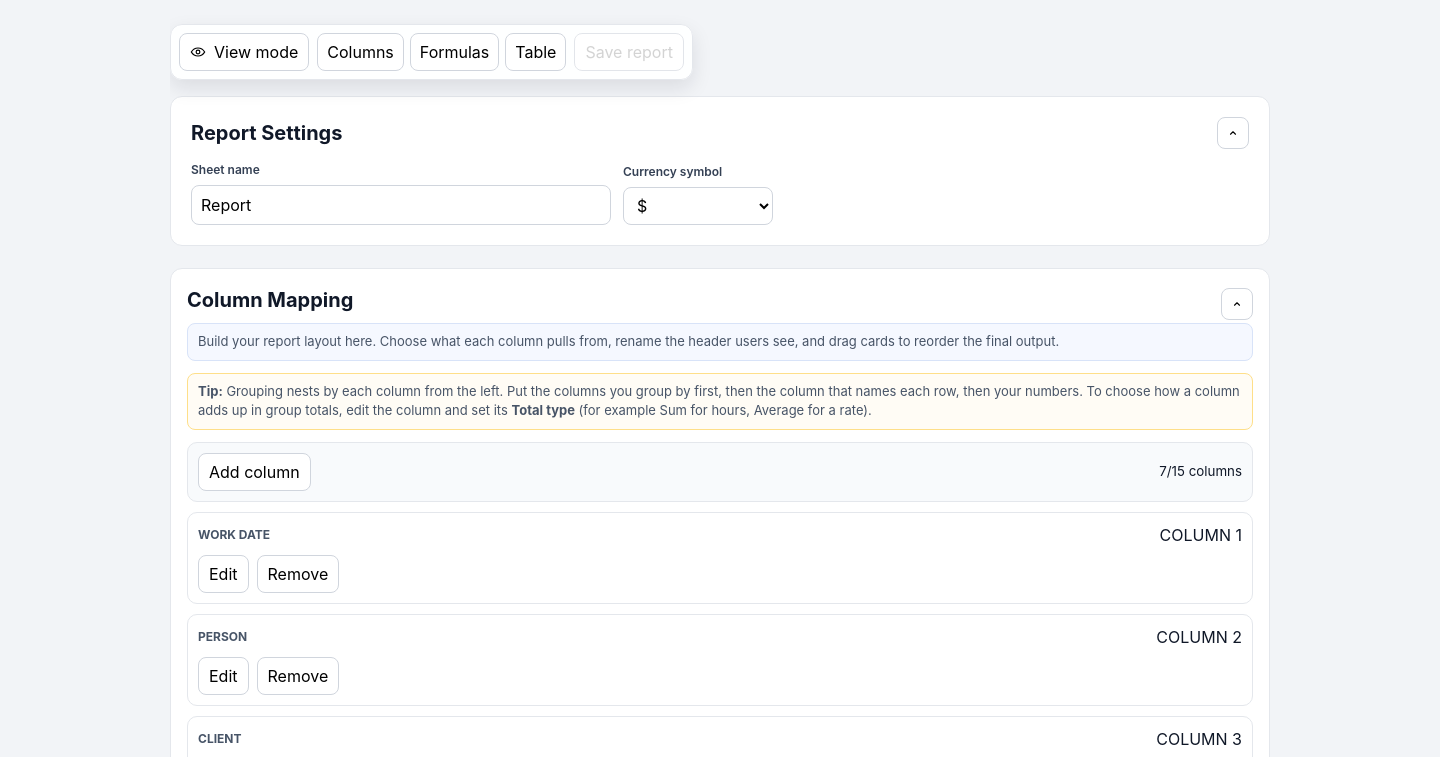
Test: ReportBuilderApp › inserts a new column at selected position and shifts following columns
The image size is (1440, 757).
Click the button with aria-label "Edit COLUMN 2" at x=223, y=676, box left=198, top=656, right=248, bottom=694
(page scrolled)
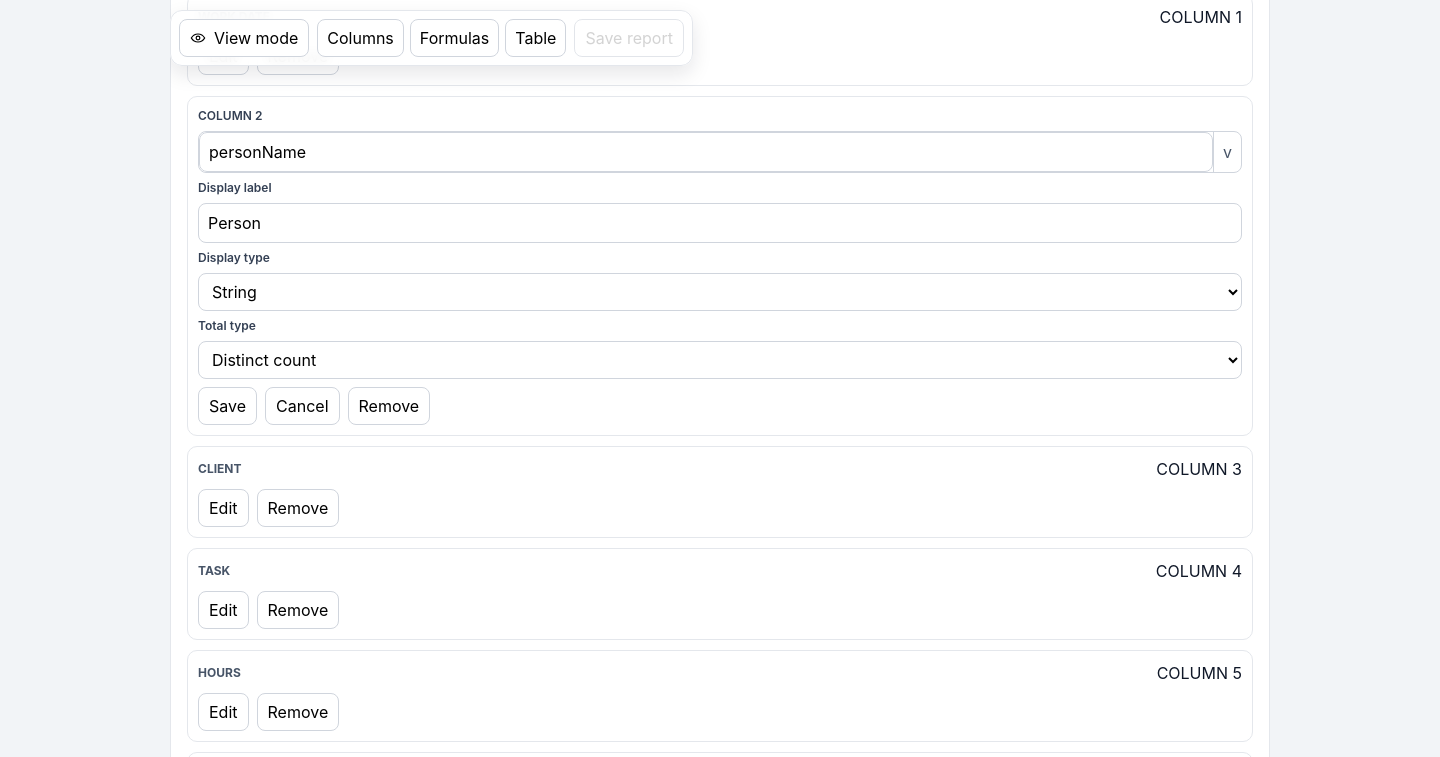
Click the button with aria-label "Cancel COLUMN 2" at x=302, y=406, box left=265, top=386, right=340, bottom=424
(page scrolled)
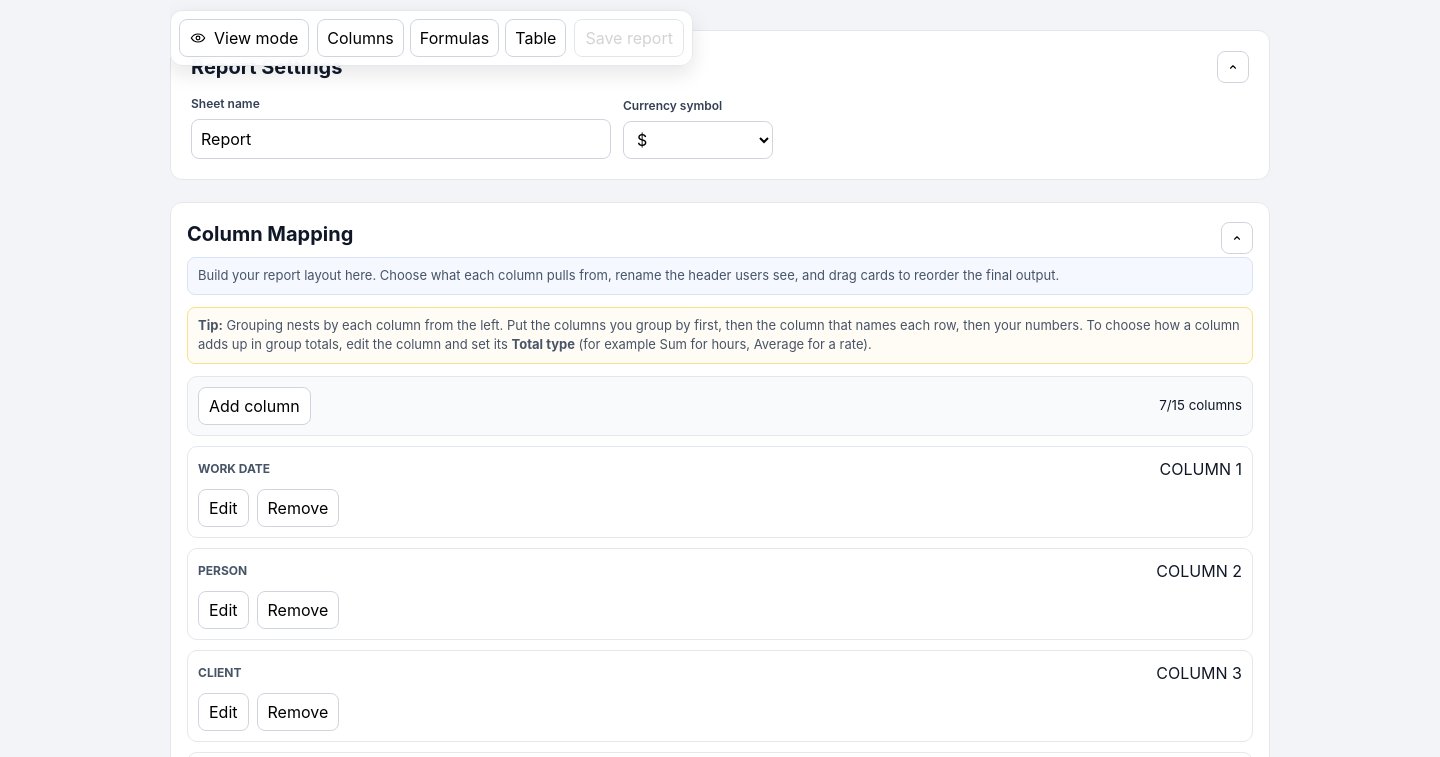
Click the button "Add column" at x=254, y=406, box left=198, top=386, right=311, bottom=424
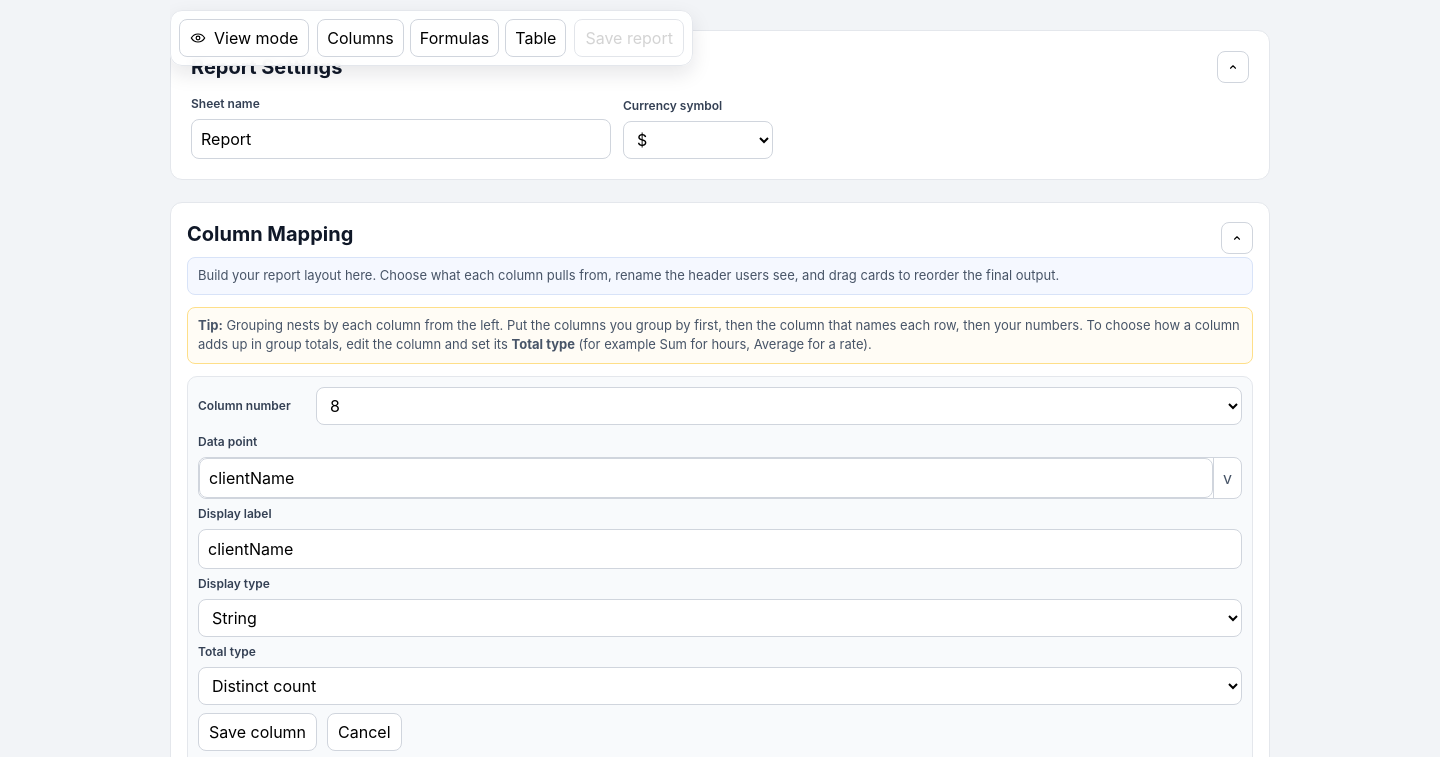
Select "2" in the dropdown labelled "Column number" at x=779, y=406, box left=316, top=386, right=1242, bottom=424
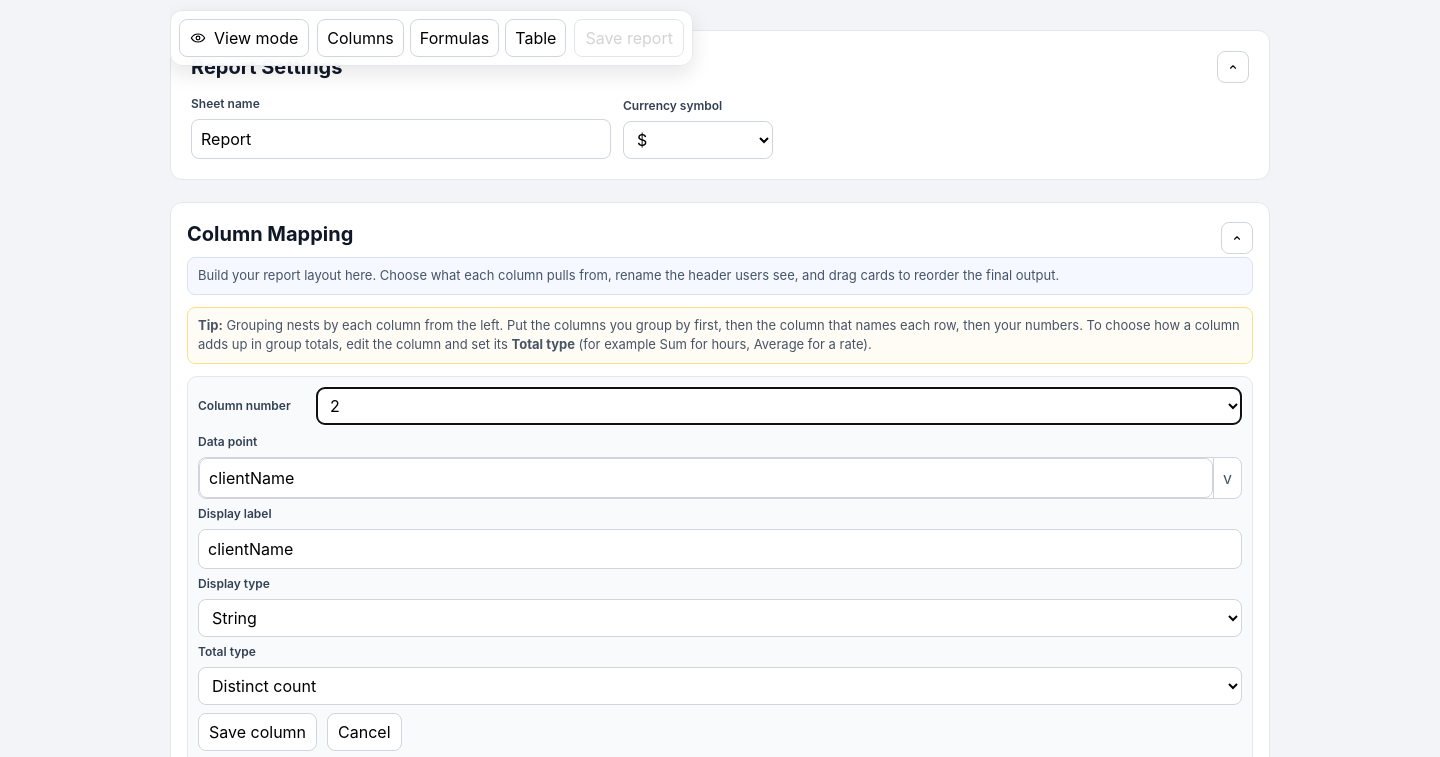
Click the button "Save column" at x=258, y=732, box left=198, top=712, right=317, bottom=750
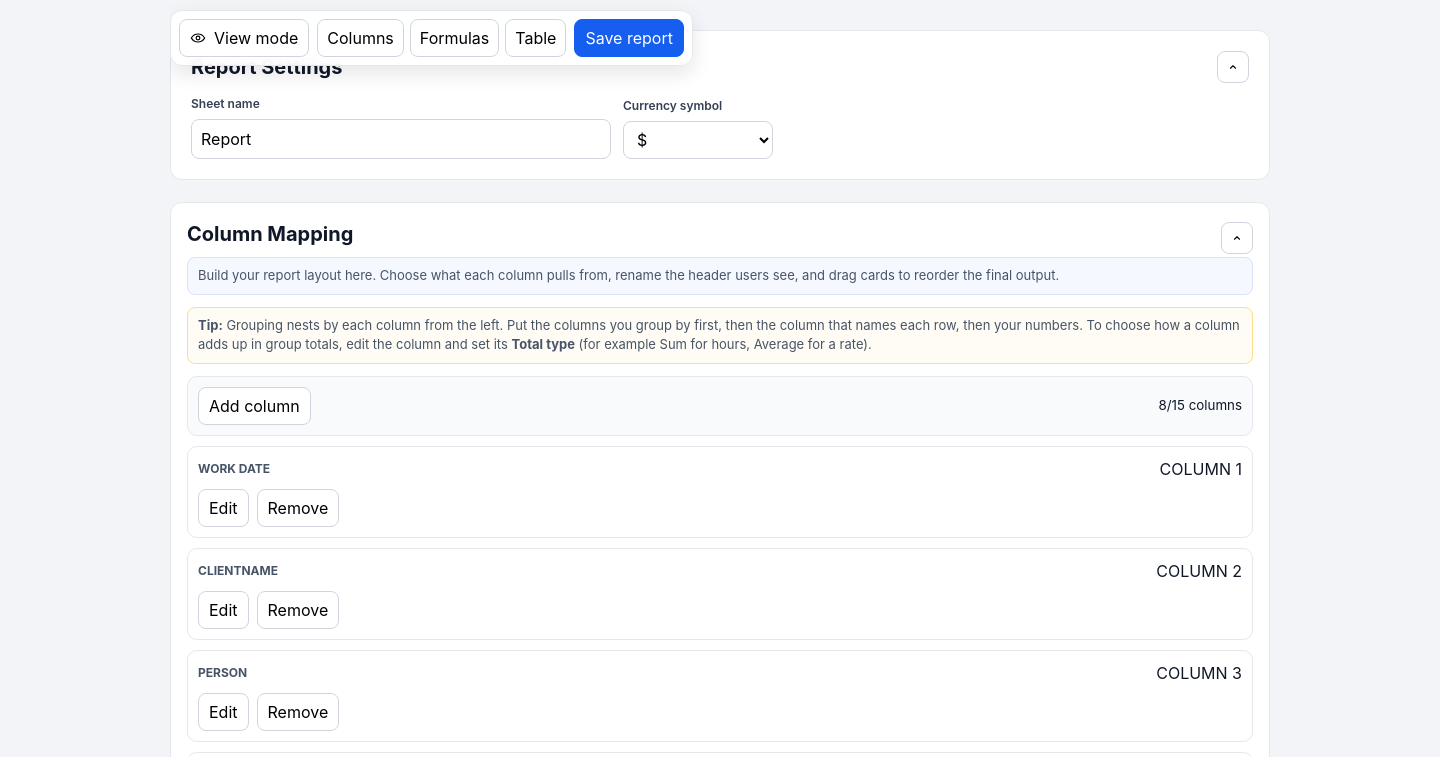
Click the button with aria-label "Edit COLUMN 3" at x=223, y=712, box left=198, top=692, right=248, bottom=730
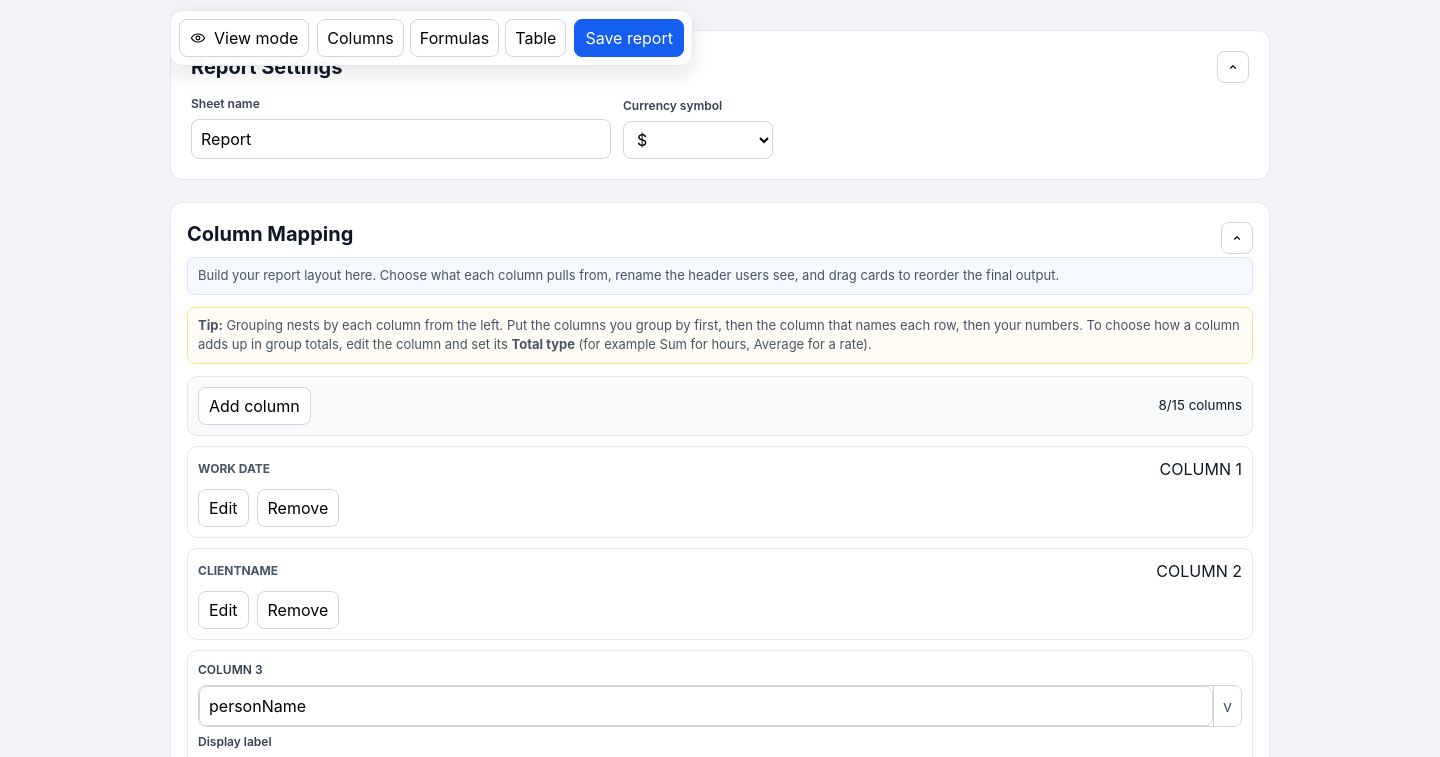
Result: the field labelled "COLUMN 3" holds "personName" at left=199, top=686, right=1213, bottom=726
